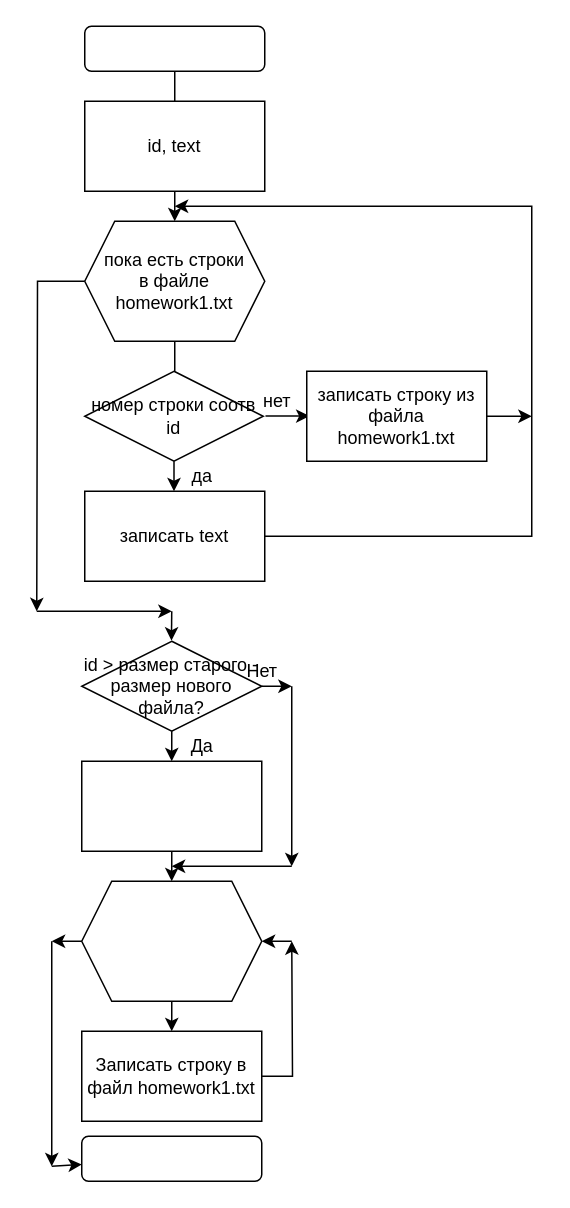
This 570x1208 diagram has some shape labels left out. The centre of each missing label's shape, as x and y in pixels:
Добавить \n в новый файл, после записать text: point (171, 805)
Конец: point (171, 1158)
начало: point (174, 48)
пока есть строки в файле temp_homework1.txt: point (171, 940)
